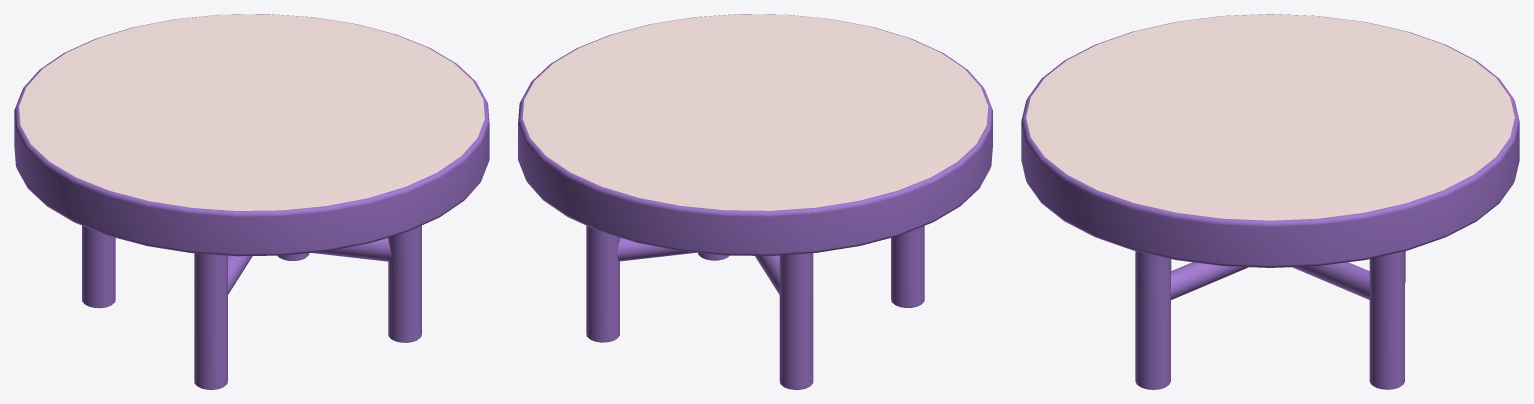
Rendered from City_16_Table_1.glb.
3 views of the same model, side by side, from view 1: azimuth 30°, elevation 25°; view 2: azimuth 150°, elevation 25°; view 3: azimuth 270°, elevation 25° (orthographic). The views are drawn at different scales.
Visible parts, largest first — view 1: City_16_Table_1; view 2: City_16_Table_1; view 3: City_16_Table_1.
Part boxes in pixels (box(x1,y1,x2,y2)): City_16_Table_1: box(14, 14, 489, 389); City_16_Table_1: box(518, 14, 992, 389); City_16_Table_1: box(1021, 14, 1519, 389).
Size of the model in its own units: 1.63 by 0.7813 by 1.63.
Materials: 1 (1 with a texture image).
